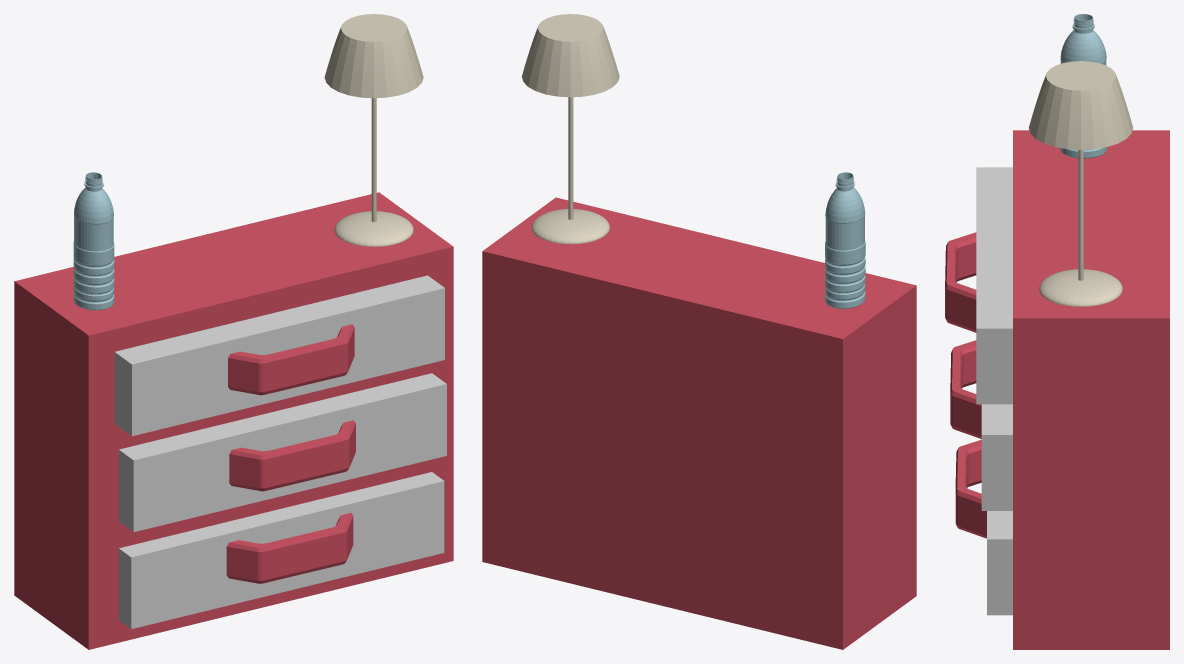
Rendered from project149.glb.
3 views of the same model, side by side, from view 1: azimuth 30°, elevation 25°; view 2: azimuth 150°, elevation 25°; view 3: azimuth 270°, elevation 25° (orthographic). The views are drawn at different scales.
Visible parts, largest first — view 1: Mesh_Mesh_head_geo.001_lambert2SG.001; view 2: Mesh_Mesh_head_geo.001_lambert2SG.001; view 3: Mesh_Mesh_head_geo.001_lambert2SG.001.
Part boxes in pixels (box(x1,y1,x2,y2)): Mesh_Mesh_head_geo.001_lambert2SG.001: box(14, 14, 453, 649); Mesh_Mesh_head_geo.001_lambert2SG.001: box(482, 14, 916, 649); Mesh_Mesh_head_geo.001_lambert2SG.001: box(945, 14, 1169, 649).
Size of the model in its own units: 85 by 116 by 43.
